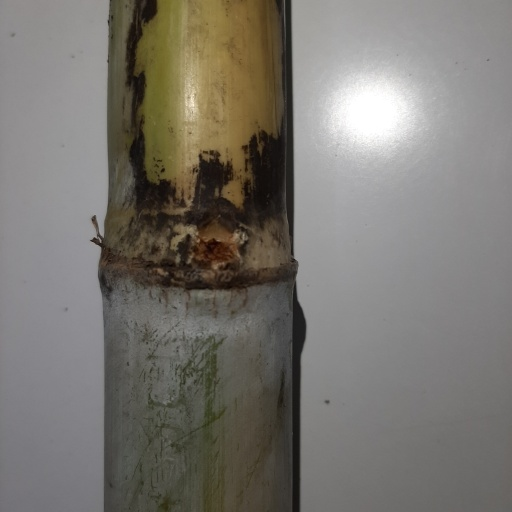Damage_Bud: (194, 218, 239, 269)
